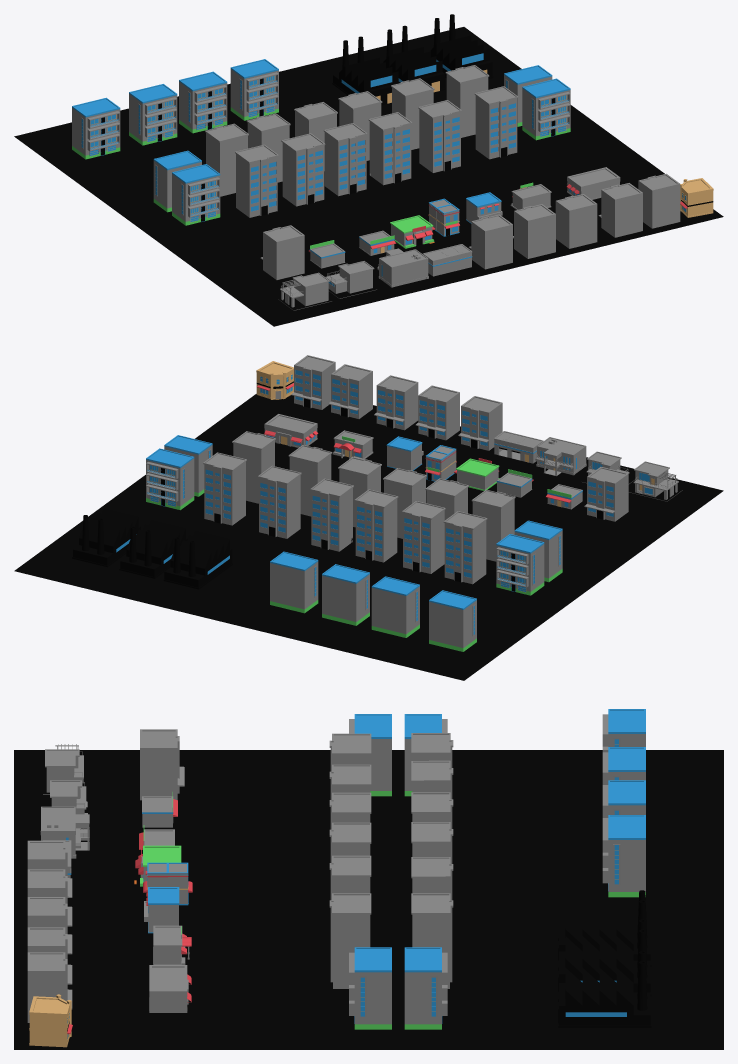
The model's file is Blocagem Fase3.fbx.
3 renders of one model, top to bottom at view 1: azimuth 30°, elevation 25°; view 2: azimuth 150°, elevation 25°; view 3: azimuth 270°, elevation 25°, orthographic. The views are drawn at different scales.
Parts seen in each view (by area): view 1: Chão, Predio, Predio.002, Predio.001, Predio.004, Predio.005, Predio.003, Building_Residential_color01, Building_Residential_color01.004, Building_Residential_color01.002, Building_Residential_color01.005, Building_Residential_color01.006 (+30 smaller); view 2: Chão, Predio.009, Predio.011, Building_Factory.002, Predio.006, Predio.007, Predio.008, Predio.010, Building_Residential_color01.001, Building_Residential_color01.007, Building_Residential_color01.003, Building_Residential_color01.005 (+30 smaller); view 3: Chão, Building_Factory.001, Building_Residential_color01.001, Building_Residential_color01.007, Building_Residential_color01, Building_Factory, Predio.004, Building_Factory.002, Predio2.005, Predio.006, Building_Residential_color01.002, Building_Fruits Shop (+30 smaller).
Boxes of the visible parts, bbox=[...] form: Chão: bbox=[14, 27, 723, 326]; Predio: bbox=[281, 133, 325, 206]; Predio.002: bbox=[368, 112, 412, 185]; Predio.001: bbox=[323, 123, 367, 196]; Predio.004: bbox=[474, 86, 518, 159]; Predio.005: bbox=[235, 144, 278, 217]; Predio.003: bbox=[418, 100, 461, 172]; Building_Residential_color01: bbox=[522, 78, 570, 140]; Building_Residential_color01.004: bbox=[72, 97, 120, 159]; Building_Residential_color01.002: bbox=[172, 164, 220, 225]; Building_Residential_color01.005: bbox=[129, 84, 177, 145]; Building_Residential_color01.006: bbox=[179, 71, 227, 133]; Chão: bbox=[14, 394, 723, 680]; Predio.009: bbox=[354, 489, 398, 562]; Predio.011: bbox=[443, 511, 487, 584]; Building_Factory.002: bbox=[163, 531, 232, 589]; Predio.006: bbox=[203, 452, 246, 525]; Predio.007: bbox=[258, 465, 301, 538]; Predio.008: bbox=[310, 478, 353, 551]; Predio.010: bbox=[402, 501, 445, 573]; Building_Residential_color01.001: bbox=[146, 448, 194, 510]; Building_Residential_color01.007: bbox=[270, 551, 318, 613]; Building_Residential_color01.003: bbox=[496, 534, 544, 595]; Building_Residential_color01.005: bbox=[371, 576, 419, 637]; Chão: bbox=[14, 750, 723, 1049]; Building_Factory.001: bbox=[558, 951, 651, 1027]; Building_Residential_color01.001: bbox=[404, 947, 447, 1029]; Building_Residential_color01.007: bbox=[602, 815, 645, 897]; Building_Residential_color01: bbox=[349, 947, 391, 1029]; Building_Factory: bbox=[558, 919, 651, 995]; Predio.004: bbox=[329, 893, 371, 988]; Building_Factory.002: bbox=[558, 890, 651, 966]; Predio2.005: bbox=[140, 729, 184, 800]; Predio.006: bbox=[411, 893, 453, 988]; Building_Residential_color01.002: bbox=[349, 714, 391, 796]; Building_Fruits Shop: bbox=[29, 994, 72, 1047].
Bounding box in the file's own units: 20852 × 2513 × 20852.
